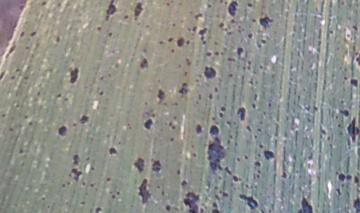tarspot: (205, 123, 227, 175), (294, 187, 314, 213), (183, 190, 204, 213), (235, 191, 258, 209), (136, 178, 151, 205), (346, 116, 359, 145), (103, 1, 120, 23), (5, 38, 18, 62), (257, 14, 274, 31), (67, 64, 80, 86), (132, 1, 145, 23), (67, 167, 85, 182), (149, 156, 161, 176), (203, 65, 217, 80), (141, 117, 155, 132), (132, 157, 146, 172), (197, 27, 208, 46), (236, 105, 247, 123), (155, 88, 166, 106), (227, 1, 239, 17), (177, 82, 189, 97), (234, 46, 245, 61), (262, 150, 276, 161), (351, 196, 360, 213), (57, 124, 67, 138), (107, 146, 119, 157), (348, 77, 359, 89), (317, 123, 327, 136), (210, 201, 220, 213), (194, 123, 203, 136), (71, 153, 80, 166), (353, 52, 360, 68), (79, 114, 89, 125), (338, 108, 350, 117), (139, 57, 148, 69), (337, 172, 346, 184), (176, 36, 184, 49), (183, 56, 192, 67), (1, 68, 8, 82), (224, 164, 231, 177), (193, 11, 203, 20), (335, 186, 343, 197), (254, 39, 262, 50), (167, 120, 175, 131), (204, 50, 213, 59), (244, 124, 253, 133), (280, 170, 288, 180), (220, 190, 230, 198), (179, 179, 189, 187), (96, 88, 104, 98), (252, 160, 262, 168), (353, 174, 360, 185), (345, 171, 352, 182), (251, 91, 258, 102), (351, 23, 359, 32), (18, 30, 26, 39), (17, 146, 25, 155), (12, 65, 21, 73), (83, 154, 92, 162), (28, 30, 38, 37), (159, 188, 166, 198), (122, 13, 130, 21), (184, 38, 192, 46), (217, 111, 225, 119), (26, 119, 34, 127), (216, 21, 224, 29), (78, 199, 86, 207), (182, 70, 190, 78), (167, 35, 174, 44), (94, 206, 103, 213), (7, 125, 14, 134), (191, 25, 198, 34), (110, 192, 117, 201), (242, 153, 249, 162), (164, 1, 173, 8), (225, 56, 235, 62), (104, 176, 112, 183), (9, 74, 16, 82), (246, 32, 253, 40), (259, 37, 267, 44), (250, 17, 258, 24), (204, 3, 212, 10), (226, 71, 234, 78), (257, 62, 264, 70), (21, 74, 29, 81), (335, 121, 341, 130), (246, 1, 253, 8), (219, 105, 226, 112), (163, 204, 170, 211), (1, 112, 8, 119), (249, 102, 256, 109), (235, 156, 242, 163), (60, 182, 67, 189), (255, 126, 262, 133), (232, 175, 238, 183), (107, 30, 113, 38), (62, 94, 68, 102), (55, 91, 61, 99), (89, 164, 95, 172), (170, 22, 178, 28), (211, 40, 219, 46), (257, 141, 263, 149), (311, 105, 319, 111), (56, 1, 62, 9), (208, 92, 213, 101), (55, 34, 60, 43), (36, 89, 41, 98), (191, 151, 197, 158), (168, 136, 175, 142), (95, 25, 102, 31), (214, 50, 220, 57), (40, 1, 47, 7), (327, 29, 334, 35), (267, 101, 273, 108), (230, 17, 236, 24), (70, 121, 77, 127), (88, 182, 95, 188), (153, 183, 160, 189), (40, 195, 46, 202), (80, 180, 86, 187), (176, 168, 181, 176), (23, 45, 31, 50), (213, 85, 218, 93), (248, 79, 253, 87), (169, 47, 175, 53), (342, 75, 348, 81), (158, 39, 165, 44), (115, 189, 120, 196), (98, 74, 103, 81), (218, 1, 223, 5)
